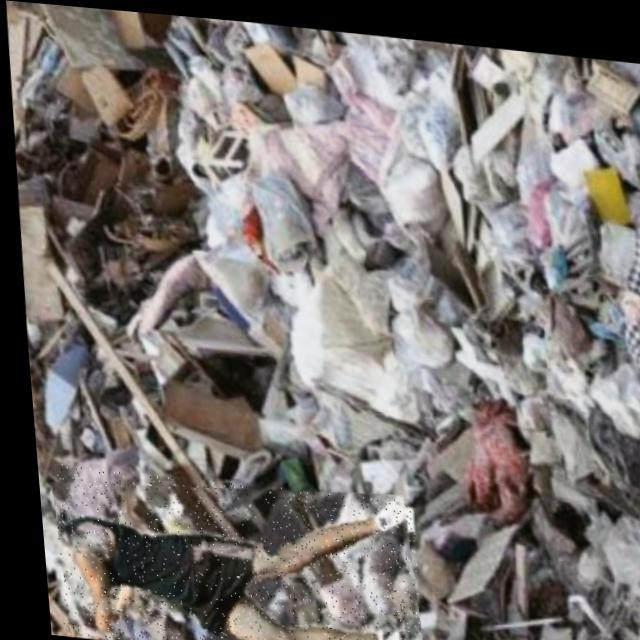Person in Rubble: (42, 462, 415, 640)
